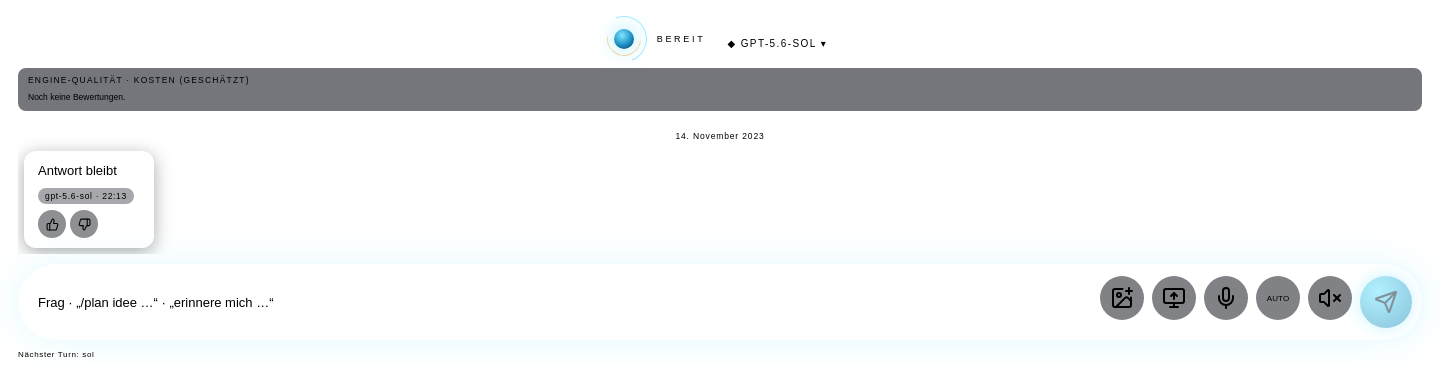
Test case: JarvisChat (LIVE-Kontrakt /api/pa/*, Payload-Shapes aus test_pa_chat.py) › isoliert Rating-Fehler und lässt die Assistant-Bubble stehen
Click the button named "Schlechte Antwort".
click(84, 224)  # box left=70, top=210, right=98, bottom=238
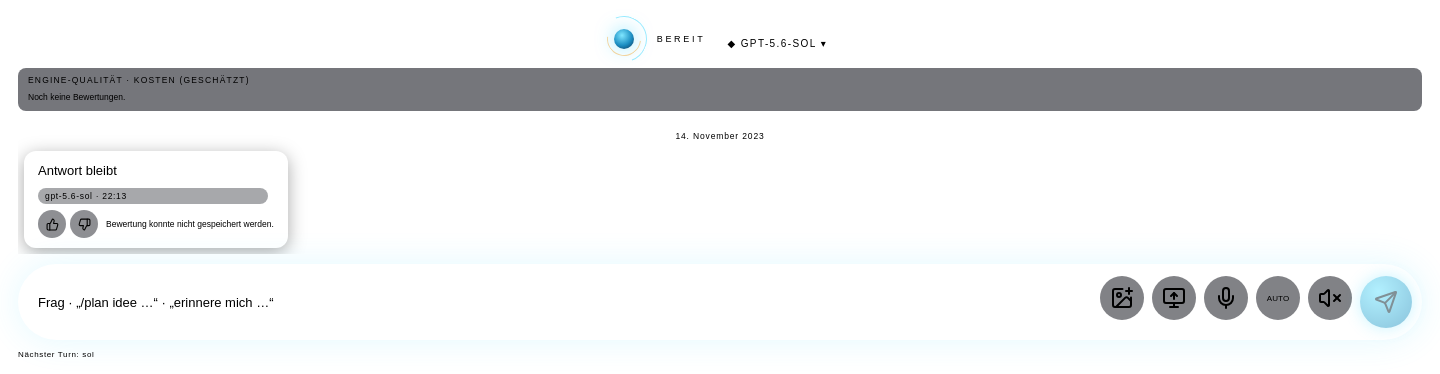
Expected: the text "Antwort bleibt" is shown, left=38, top=163, right=117, bottom=178
Now the text "Bewertung konnte nicht gespeichert werden." is shown, box left=106, top=218, right=274, bottom=231
